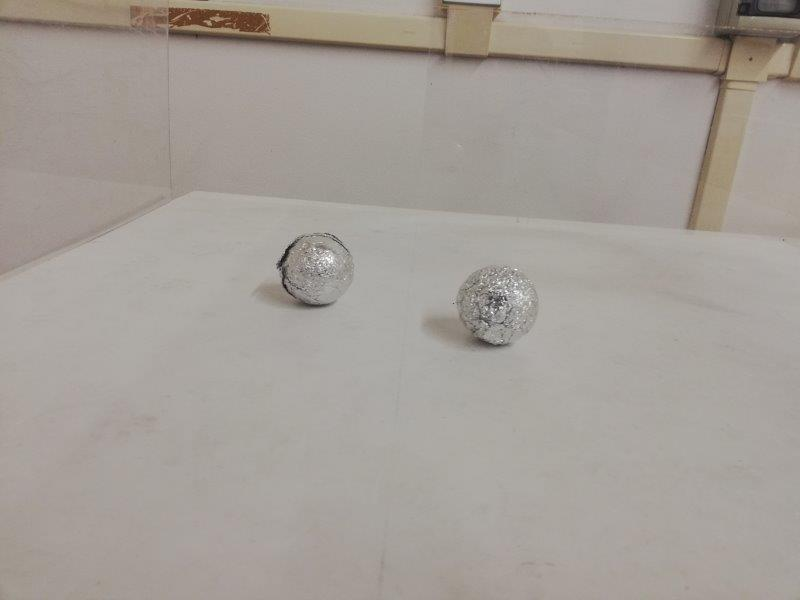bianca: (457, 264, 540, 347), (275, 230, 356, 306)
